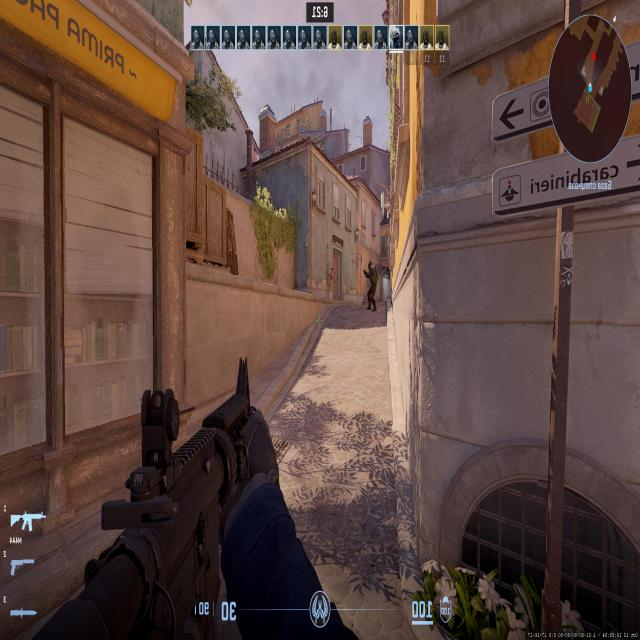CT: (366, 260, 376, 315)
CT_heat: (368, 262, 372, 270)
